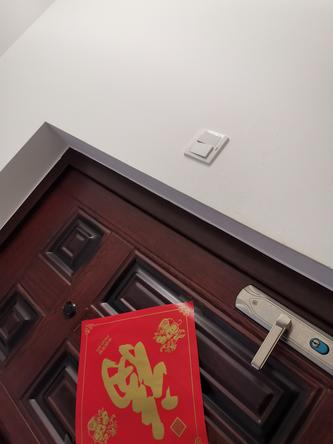switch: (189, 144, 212, 157), (201, 133, 220, 145)
